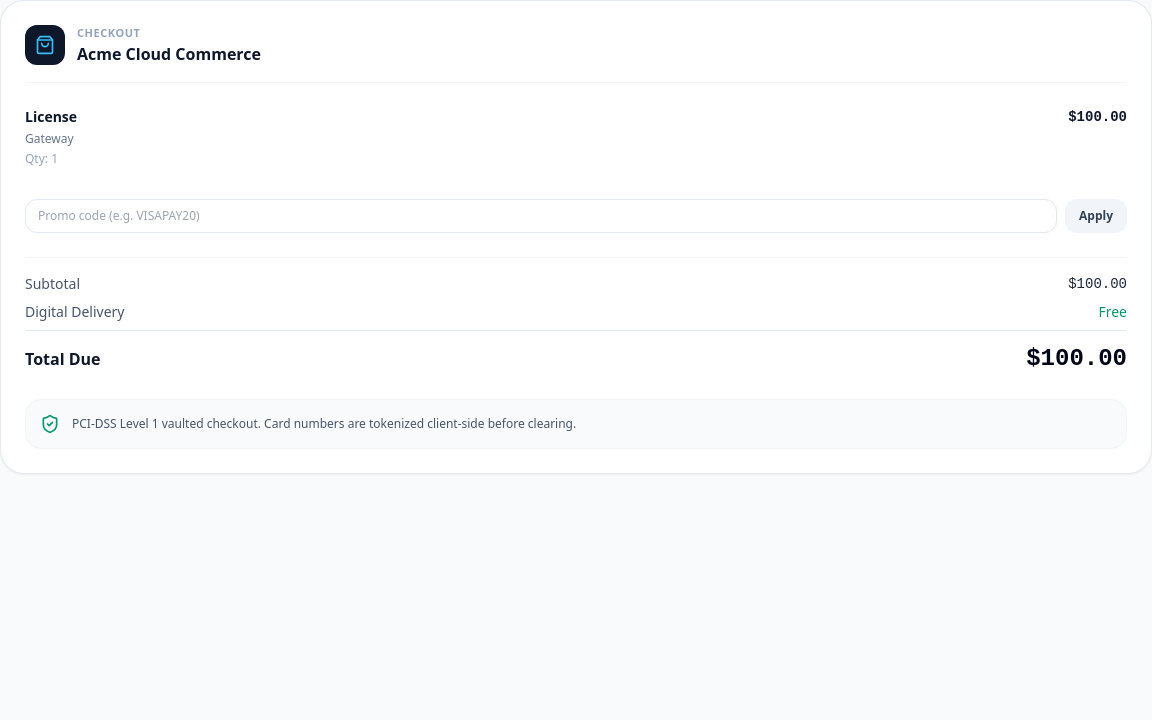
Scenario: VisaPay Checkout Usability & Field Interactions › should apply VISAPAY20 promotional discount in OrderSummary
This screenshot has width=1152, height=720.
In the field named "Enter promotional discount code": (541, 216) 25,198 -> 1057,232, type "VISAPAY20"
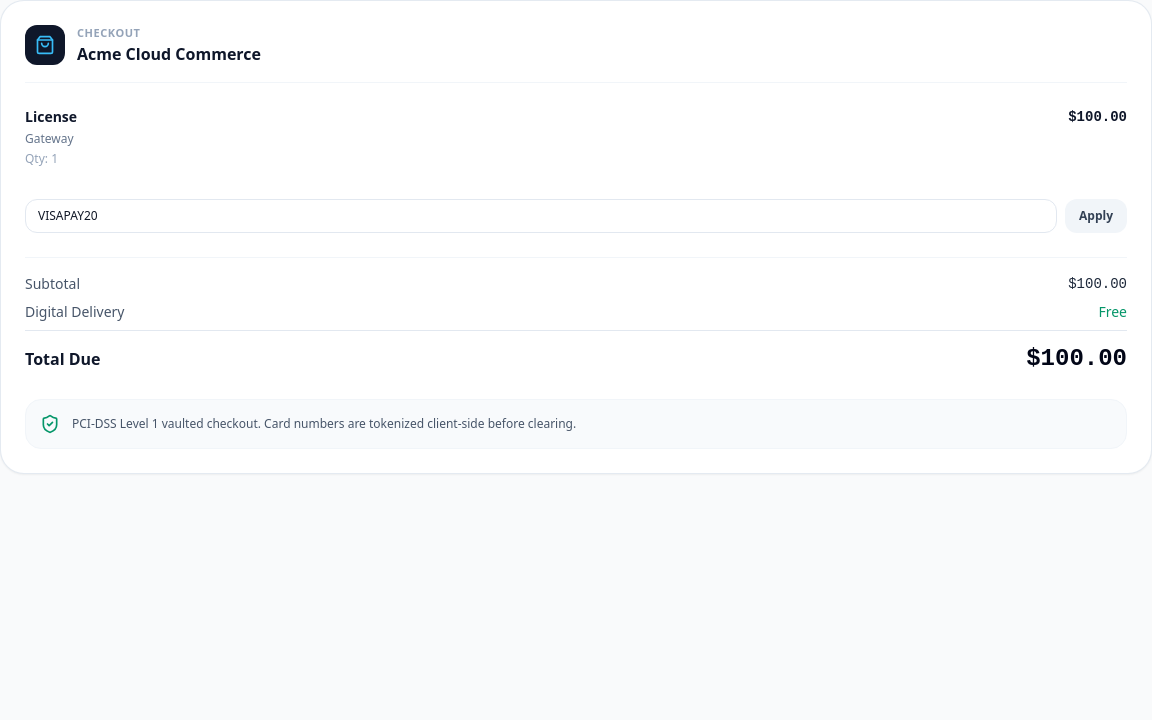
Submit the form named "Enter promotional discount code", box 25,198 -> 1127,232
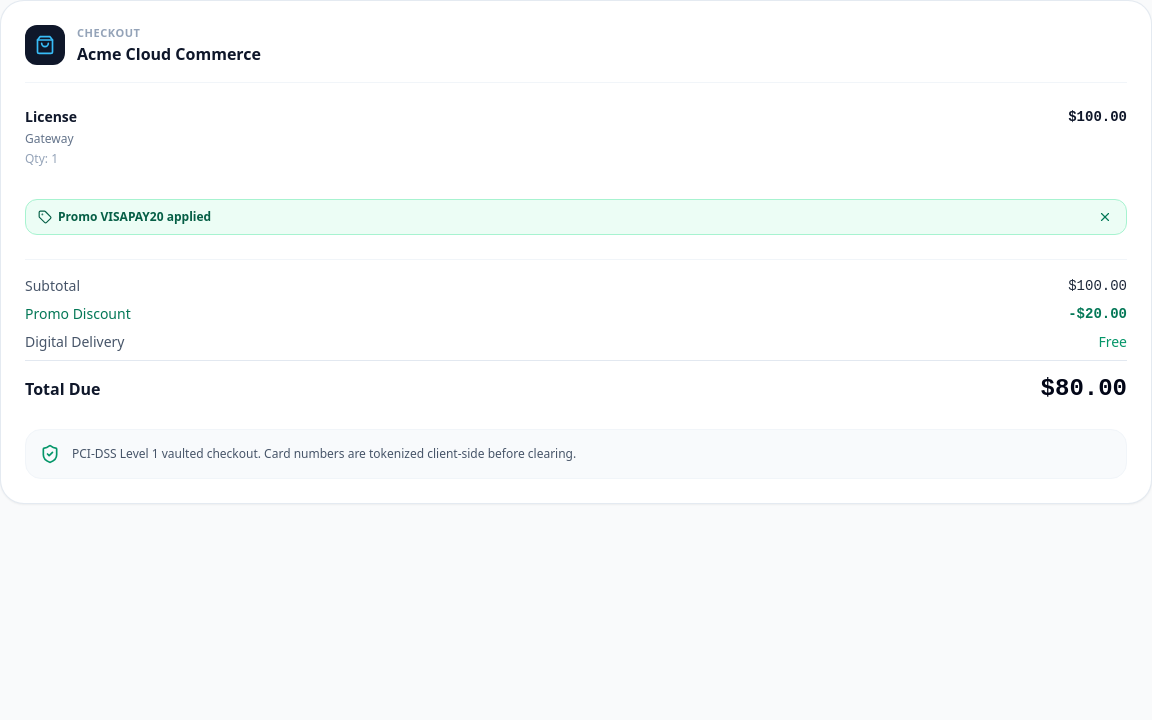
Expected: the text "Promo VISAPAY20 applied" is shown, 58,208 -> 211,224
Expected: the text "-$20.00" is shown, 1068,304 -> 1127,324
